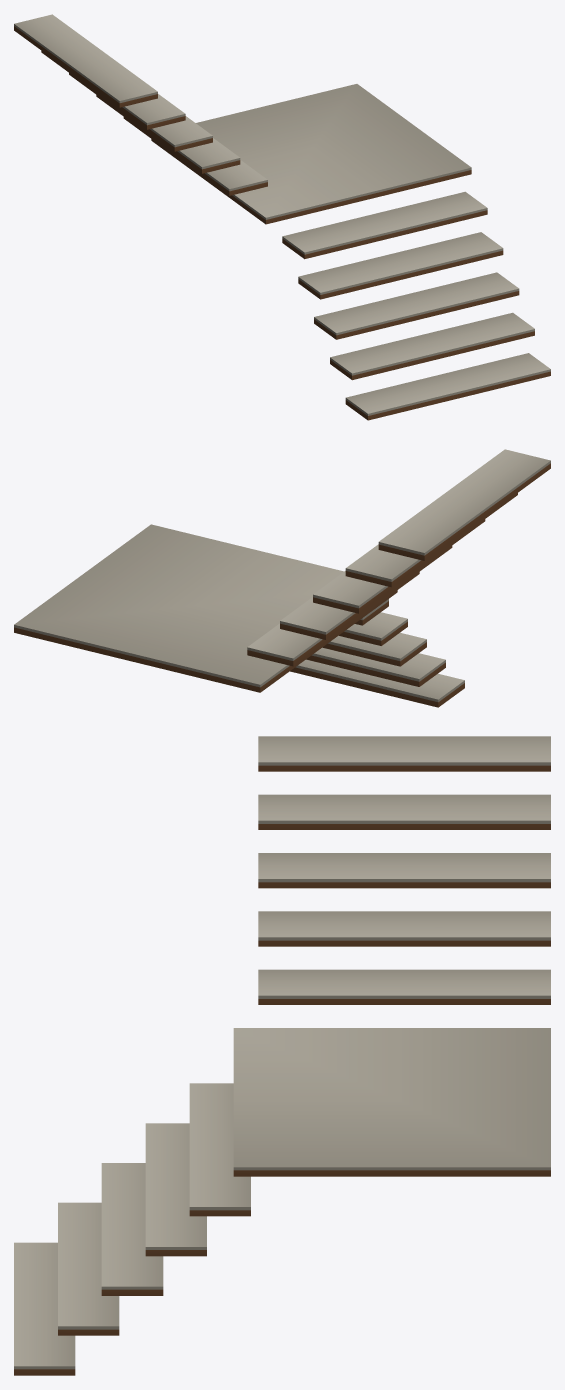
The model's file is TSP_House_Stairs_Corner_01B.R.fbx.
3 views of the same model, one above another, from view 1: azimuth 30°, elevation 25°; view 2: azimuth 150°, elevation 25°; view 3: azimuth 270°, elevation 25° (orthographic). The views are drawn at different scales.
Parts seen in each view (by area): view 1: TSP_House_Stairs_Corner_01B.R; view 2: TSP_House_Stairs_Corner_01B.R; view 3: TSP_House_Stairs_Corner_01B.R.
Boxes of the visible parts, left/top/right/bottom form: TSP_House_Stairs_Corner_01B.R: left=14, top=14, right=550, bottom=420; TSP_House_Stairs_Corner_01B.R: left=14, top=449, right=550, bottom=707; TSP_House_Stairs_Corner_01B.R: left=14, top=736, right=550, bottom=1375.
Size of the model in its own units: 3.75 by 3.07 by 3.67.
